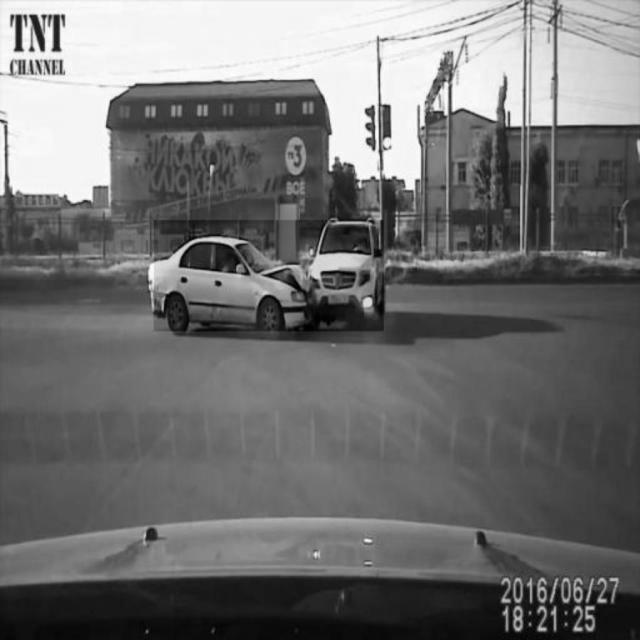accident: (155, 221, 385, 332)
